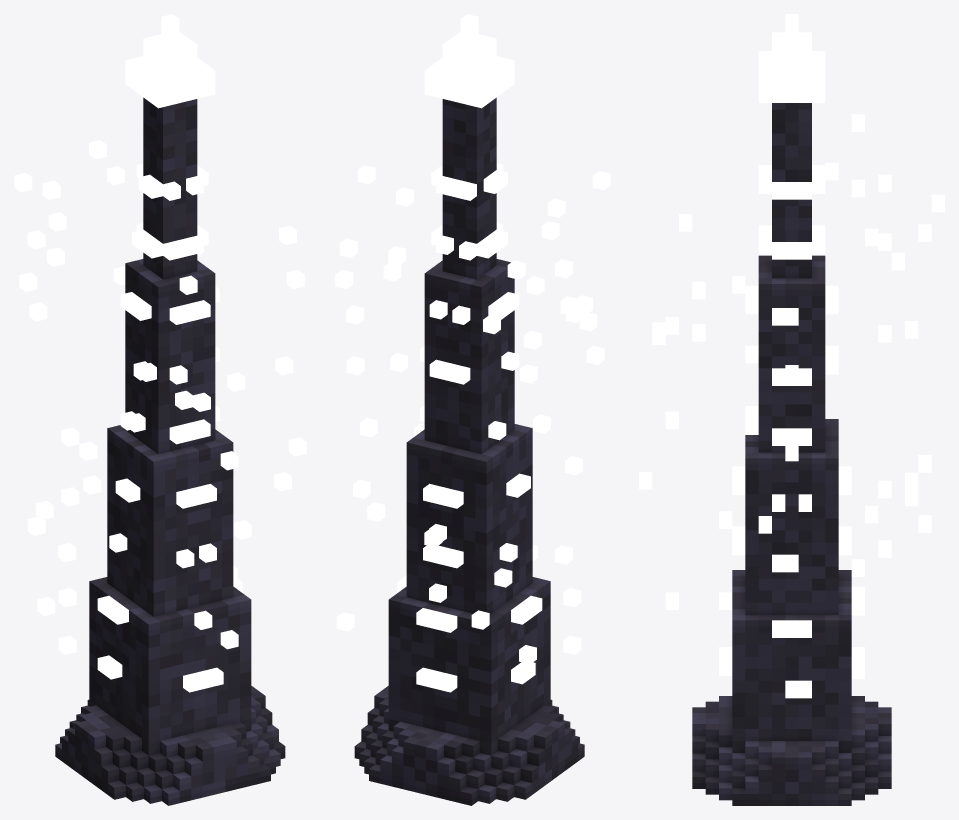
Rendered from u_obelisque.glb.
3 views of the same model, side by side, from view 1: azimuth 30°, elevation 25°; view 2: azimuth 150°, elevation 25°; view 3: azimuth 270°, elevation 25° (orthographic).
Parts seen in each view (by area): view 1: obelisque_body, obelisque_glow; view 2: obelisque_body, obelisque_glow; view 3: obelisque_body, obelisque_glow.
Boxes of the visible parts, box(x1,y1,x2,y2) form: obelisque_body: box(55, 97, 285, 805); obelisque_glow: box(14, 14, 306, 692); obelisque_body: box(354, 97, 584, 805); obelisque_glow: box(335, 14, 610, 692); obelisque_body: box(692, 103, 891, 805); obelisque_glow: box(639, 14, 944, 698).
Bounding box in the file's own units: 1.15 × 3.1 × 1.15.
